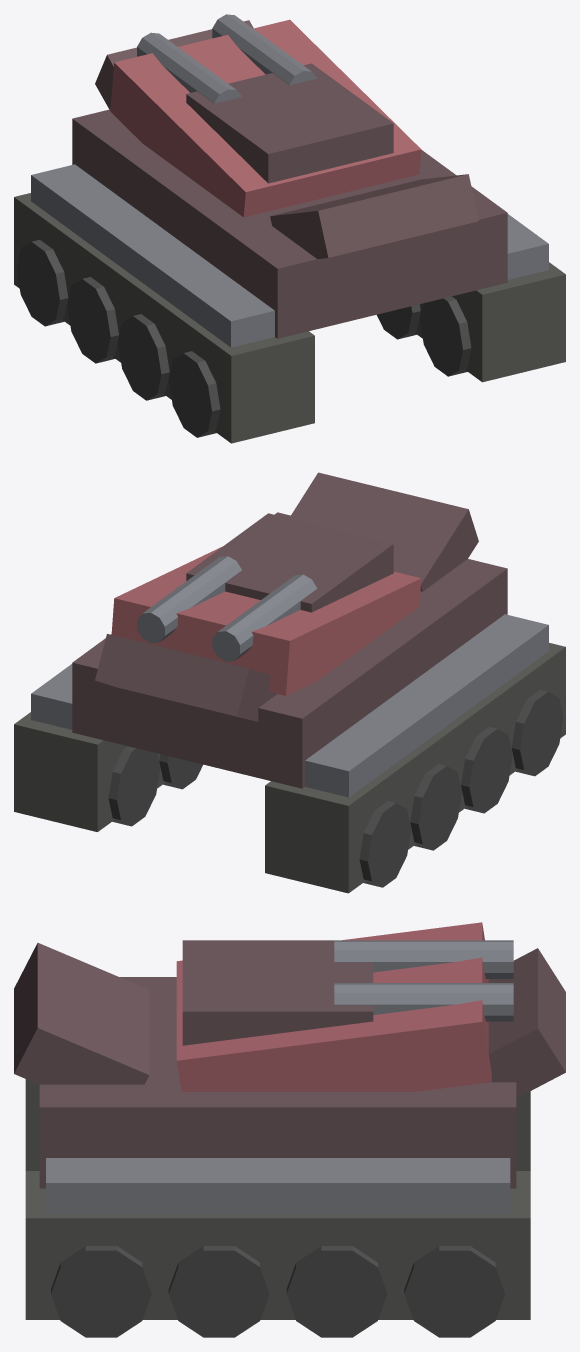
Rendered from so_stealth_tank.glb.
The picture shows the model from 3 angles, top to bottom: view 1: azimuth 30°, elevation 25°; view 2: azimuth 150°, elevation 25°; view 3: azimuth 270°, elevation 25°; orthographic projection. The views are drawn at different scales.
Visible parts, largest first — view 1: hull, turret; view 2: hull, turret; view 3: hull, turret.
Part boxes in pixels (box(x1,y1,x2,y2)): hull: box(14, 19, 565, 443); turret: box(137, 14, 393, 183); hull: box(14, 472, 565, 893); turret: box(137, 513, 393, 661); hull: box(14, 922, 565, 1337); turret: box(182, 940, 513, 1045).
Size of the model in its own units: 0.84 by 0.5406 by 0.9841.
